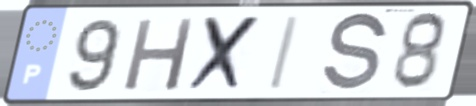8: (388, 10, 450, 95)
9: (64, 16, 125, 94)
H: (119, 15, 199, 94)
I: (265, 14, 304, 93)
S: (319, 10, 391, 96)
X: (184, 14, 266, 95)
